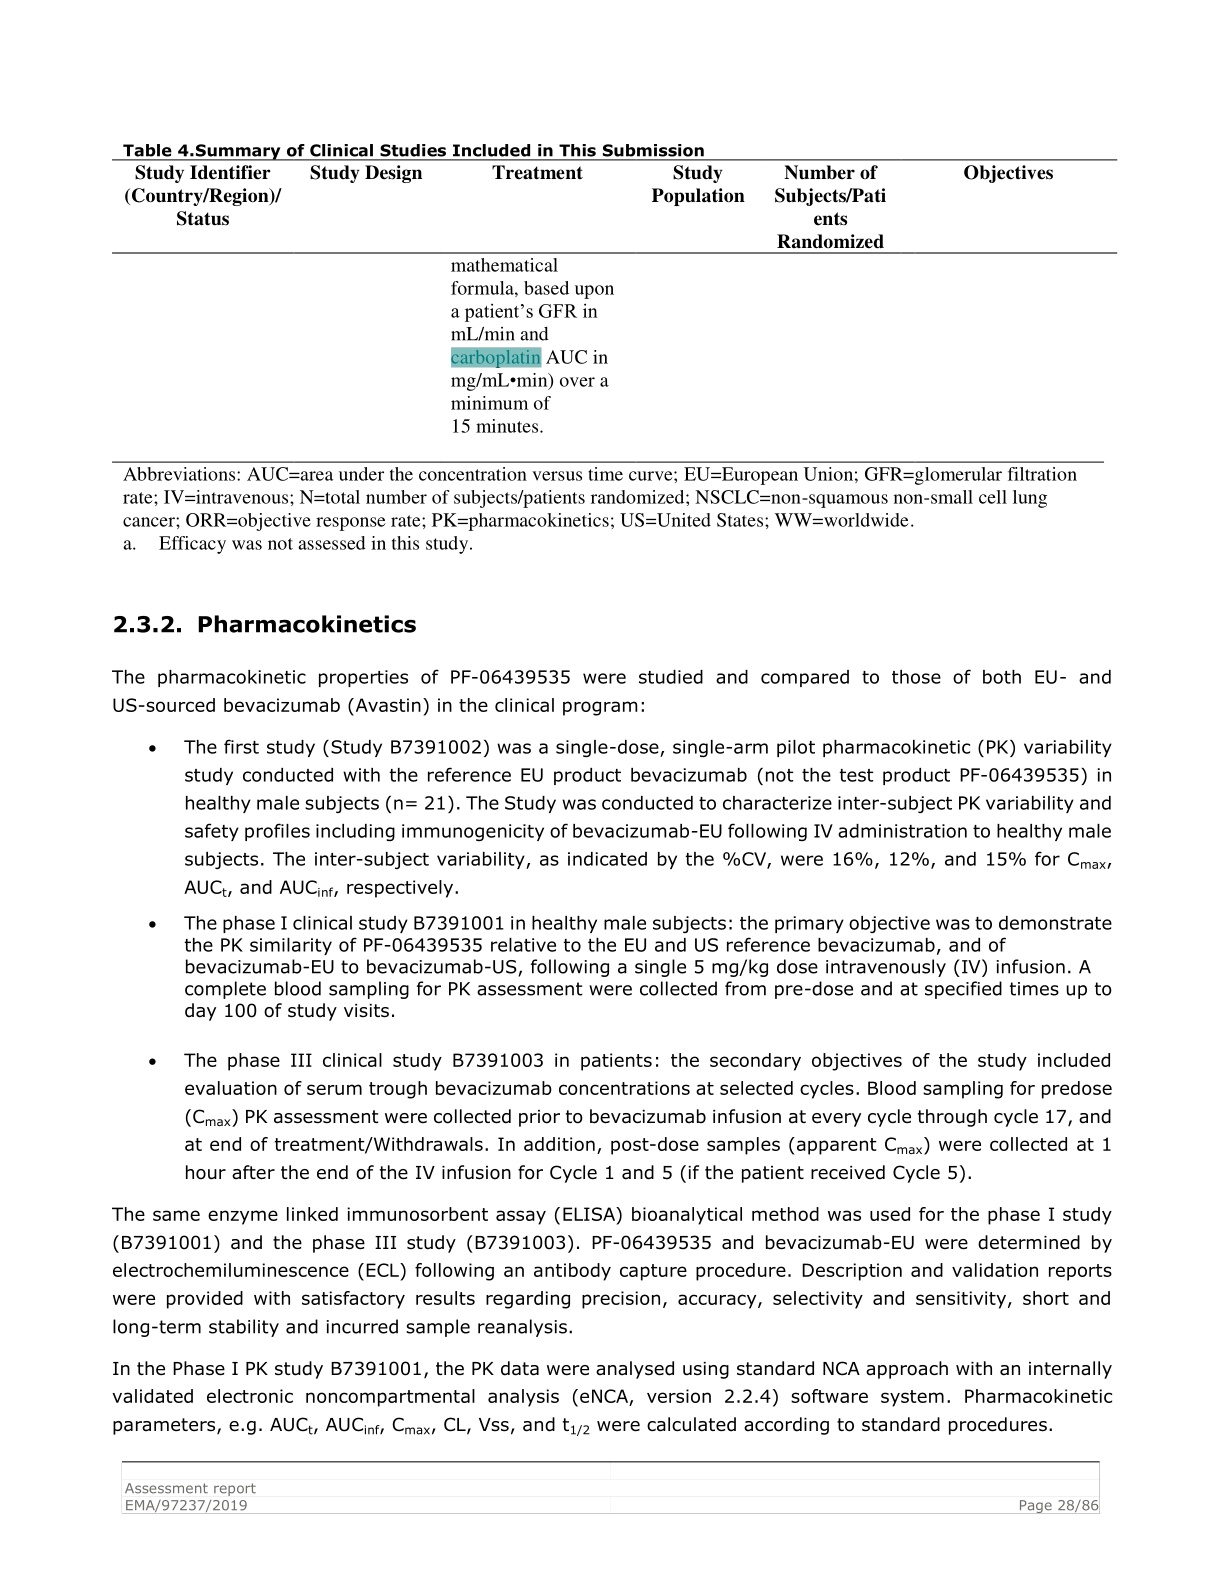partial_lined: (111, 157, 1117, 465)
